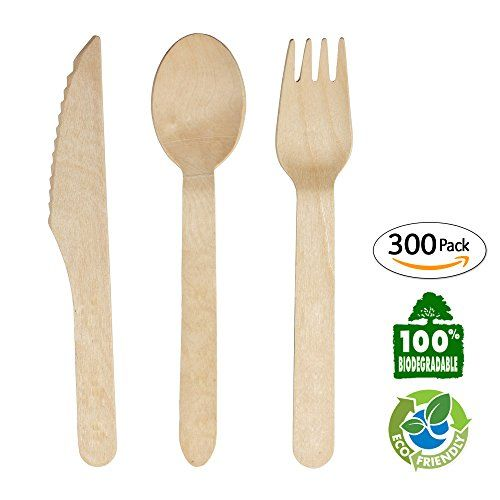Wooden Utensils: (45, 40, 350, 468)
